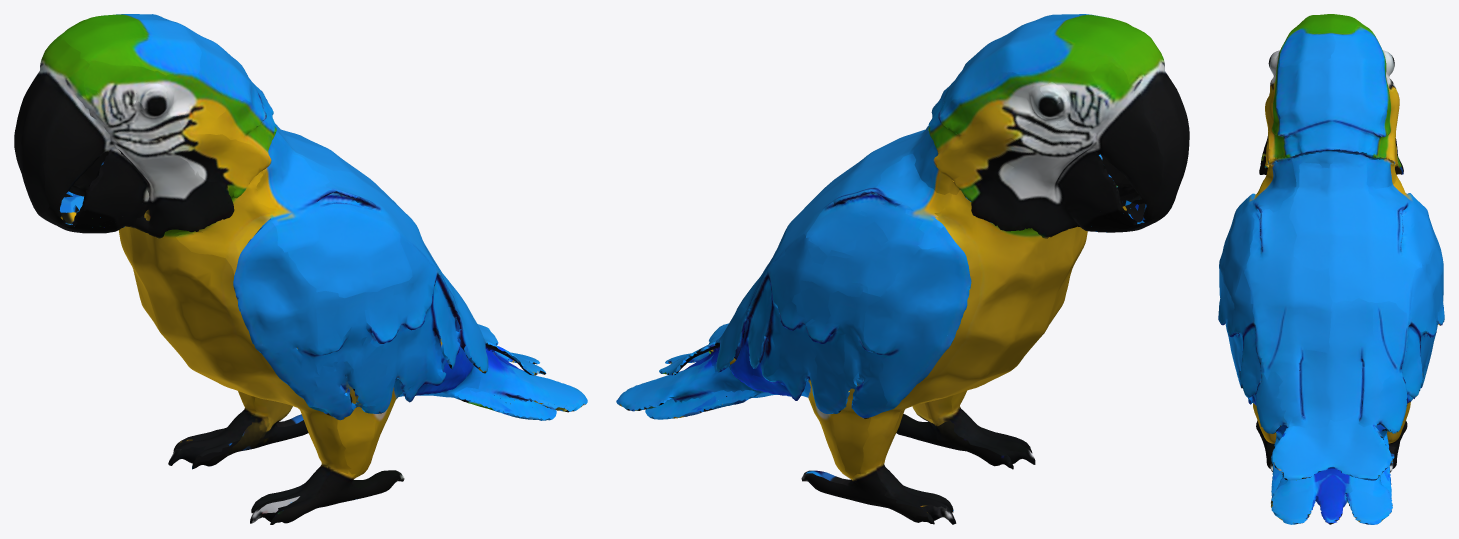
The model's file is blue-and-yellow-macaw.glb.
3 renders of one model, left to right at view 1: azimuth 30°, elevation 25°; view 2: azimuth 150°, elevation 25°; view 3: azimuth 270°, elevation 25°, orthographic. The views are drawn at different scales.
Parts seen in each view (by area): view 1: tmpapge_0zg.ply; view 2: tmpapge_0zg.ply; view 3: tmpapge_0zg.ply.
Boxes of the visible parts, bbox=[...] form: tmpapge_0zg.ply: bbox=[14, 14, 587, 524]; tmpapge_0zg.ply: bbox=[616, 14, 1189, 524]; tmpapge_0zg.ply: bbox=[1218, 14, 1444, 524].
Bounding box in the file's own units: 1.96 × 1.73 × 0.9662.
Materials: 1 (1 with a texture image).
